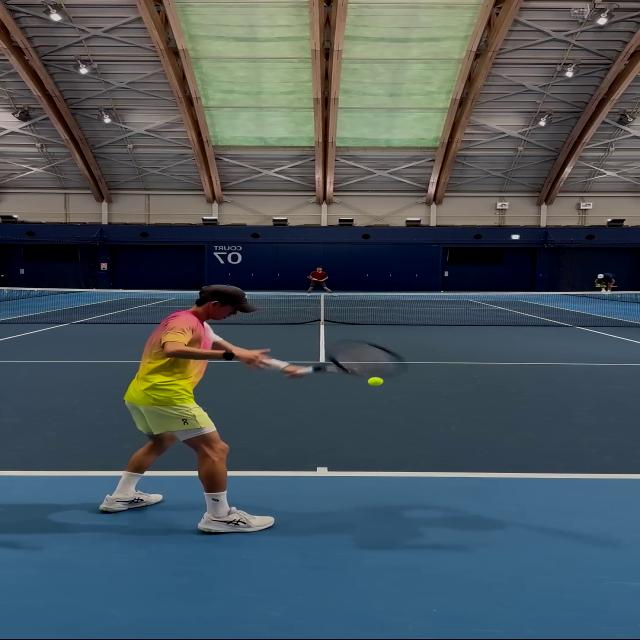tennis_ball: (369, 379, 381, 384)
